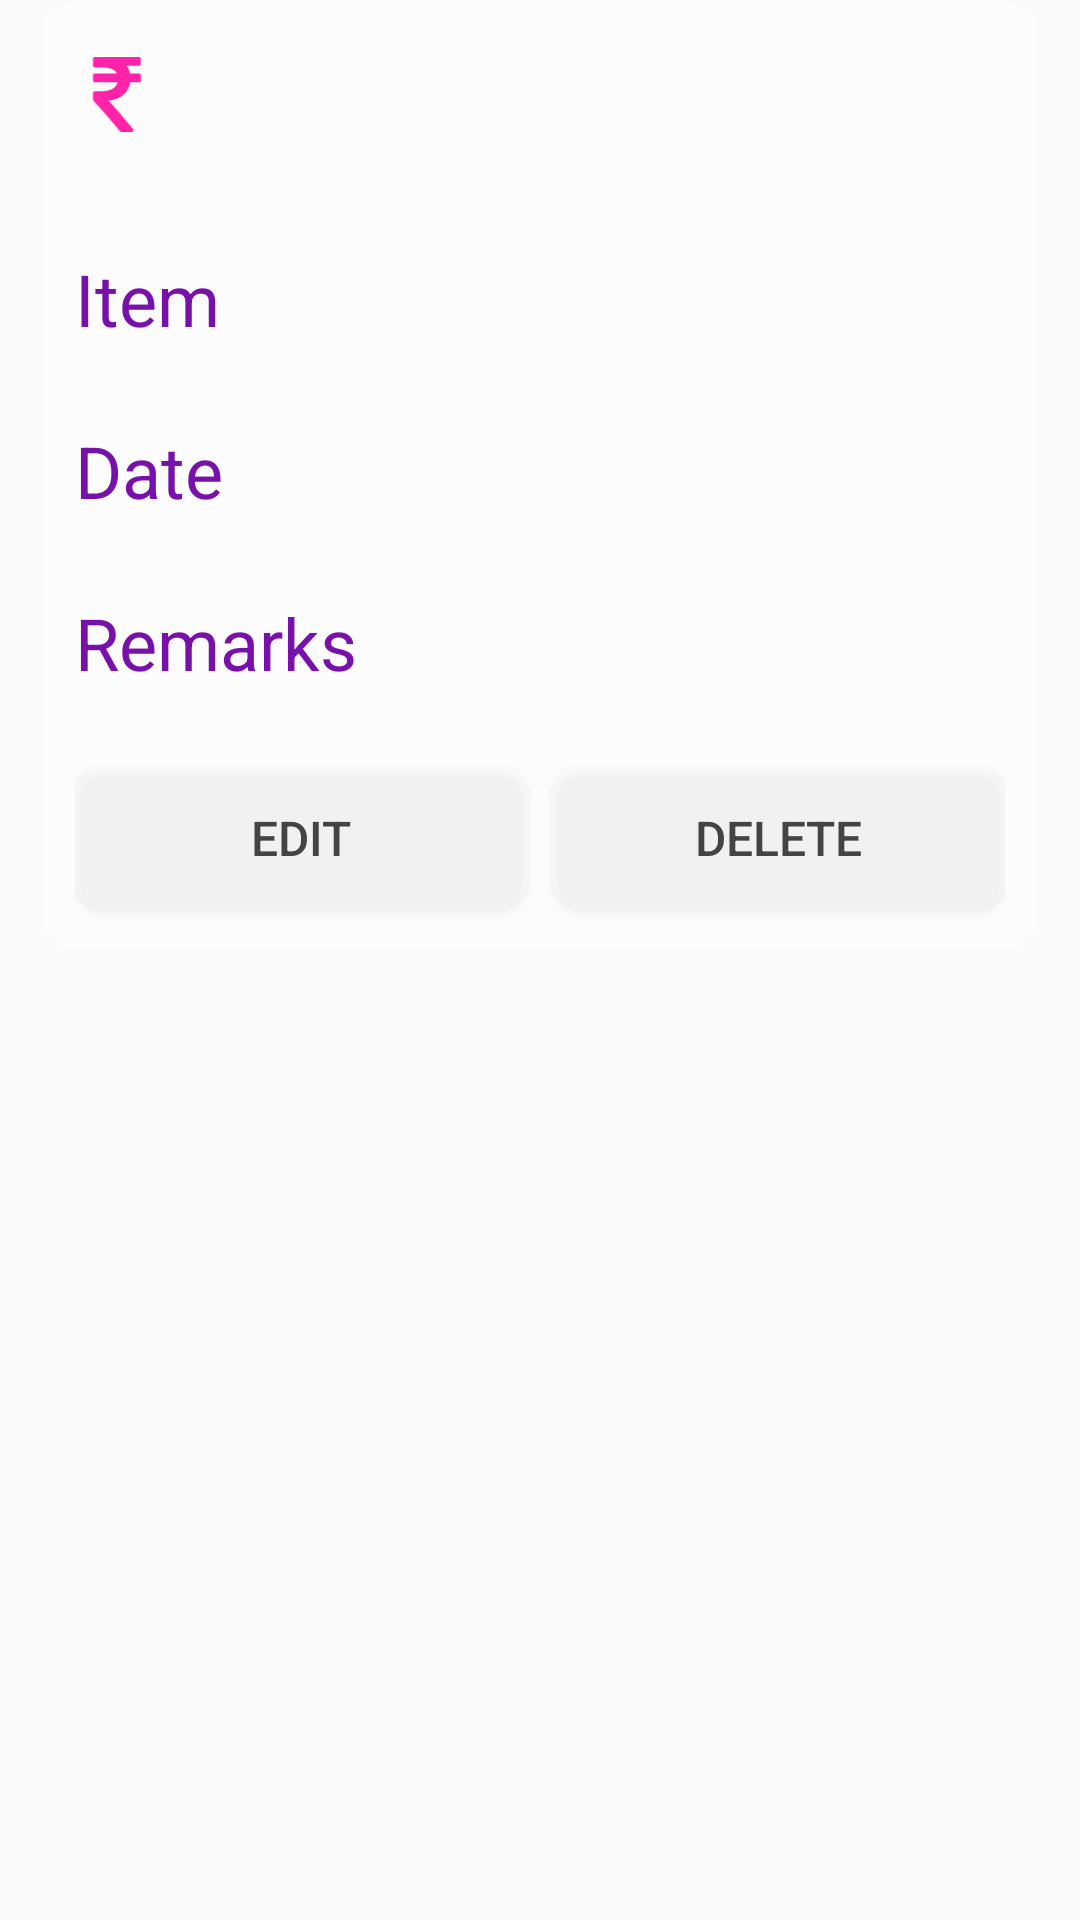

Screen size 1080x1920. Icon name, then its center in pixels as [x,y]:
rupee indian: [117,94]
